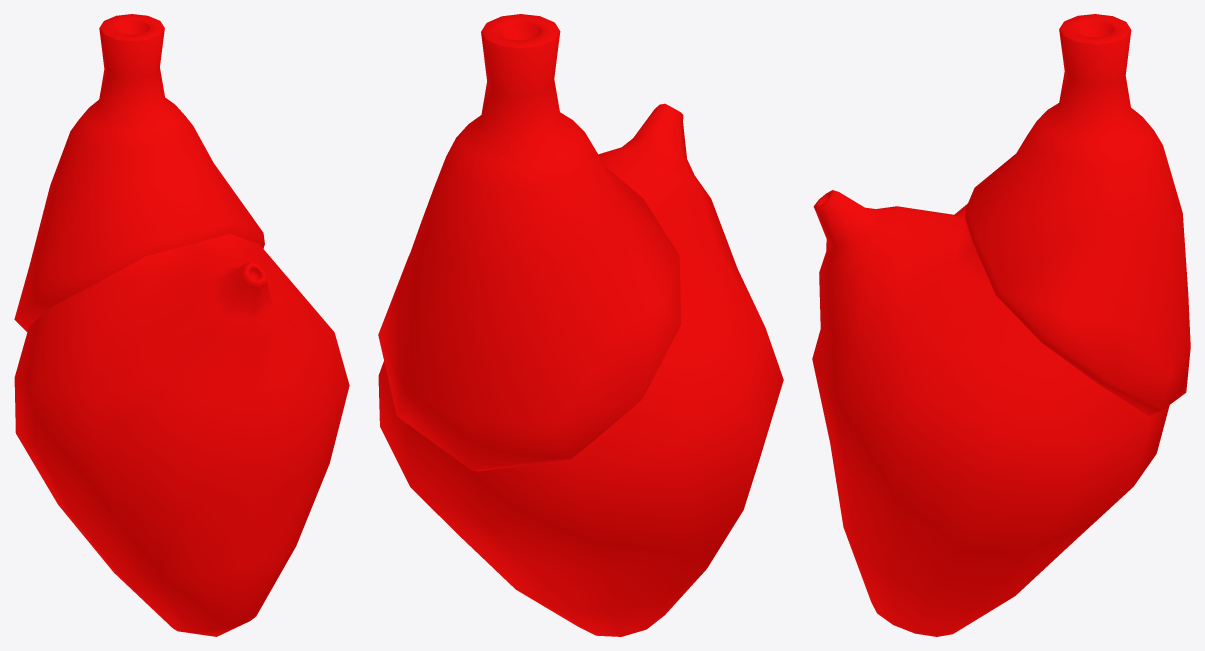
Rendered from SM_Heart_Temp.FBX.
3 renders of one model, left to right at view 1: azimuth 30°, elevation 25°; view 2: azimuth 150°, elevation 25°; view 3: azimuth 270°, elevation 25°, orthographic. The views are drawn at different scales.
Parts seen in each view (by area): view 1: Heart; view 2: Heart; view 3: Heart.
Boxes of the visible parts, x1,y1,x2,y2 form: Heart: [14, 14, 349, 636]; Heart: [378, 14, 783, 636]; Heart: [812, 14, 1190, 636].
Bounding box in the file's own units: 86.92 × 155 × 88.38.
